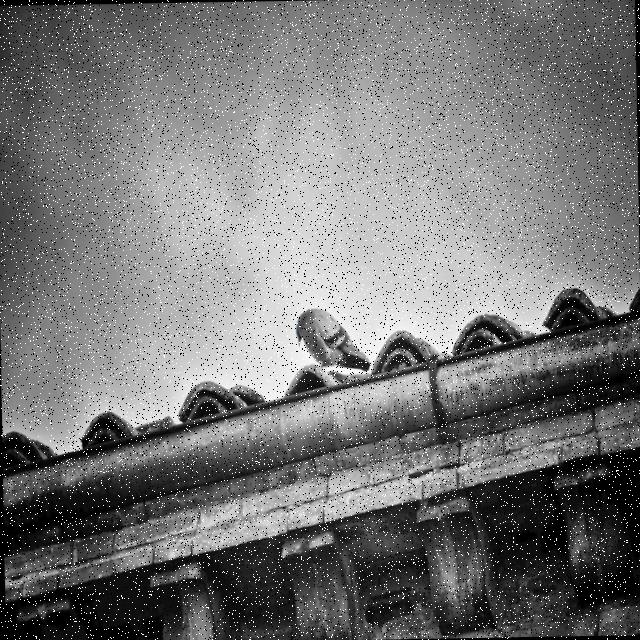bird: (294, 306, 372, 378)
